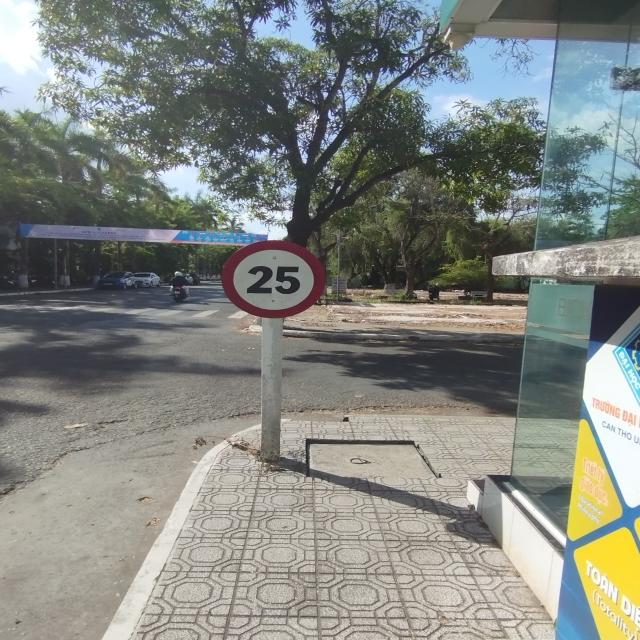Tre_Em: (222, 240, 326, 317)
